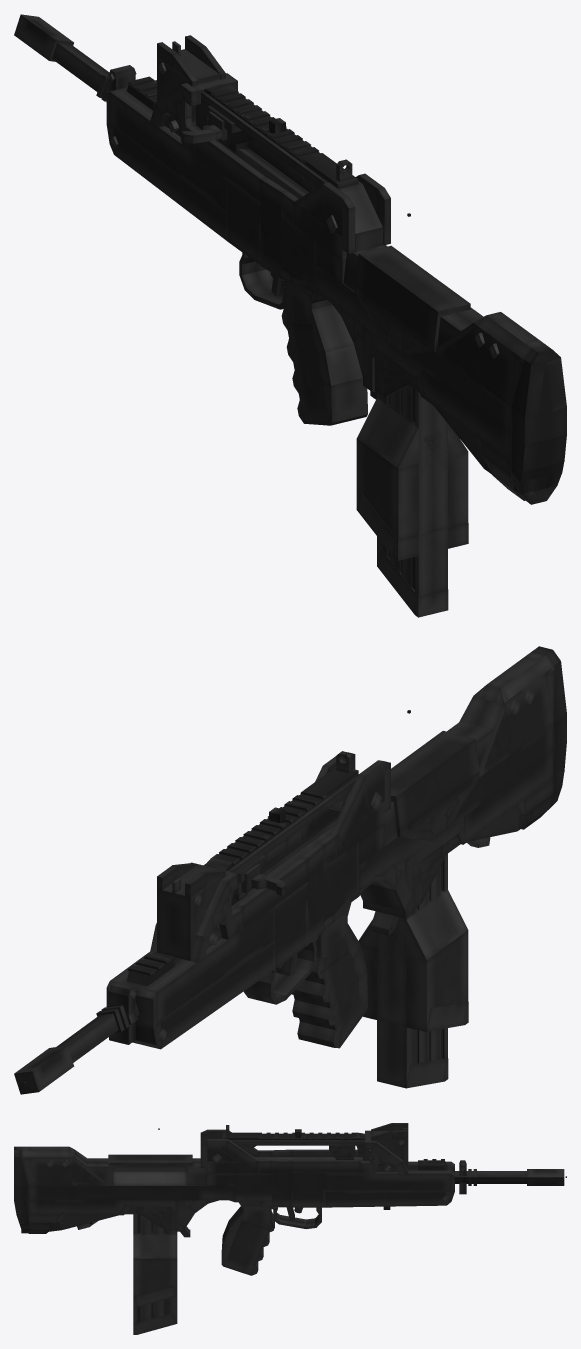
File: a4_famasvalorise.geo.fbx
3 renders of one model, top to bottom at view 1: azimuth 30°, elevation 25°; view 2: azimuth 150°, elevation 25°; view 3: azimuth 270°, elevation 25°, orthographic. The views are drawn at different scales.
Visible parts, largest first — view 1: gun, magazine6, pgrip, magazine4, magazine1, rails, charger, muzzle, barrel, bone5; view 2: gun, magazine6, pgrip, magazine4, magazine1, rails, muzzle, barrel, charger, rails2; view 3: gun, magazine6, pgrip, magazine4, rails, bolt, barrel, muzzle, magazine1, charger, rails2.
Part boxes in pixels (box(x1,y1,x2,y2)): gun: box(96, 35, 566, 500); magazine6: box(356, 398, 468, 560); pgrip: box(281, 281, 367, 425); magazine4: box(377, 386, 448, 617); magazine1: box(377, 385, 447, 553); rails: box(204, 84, 358, 188); charger: box(181, 105, 254, 152); muzzle: box(14, 14, 73, 61); barrel: box(52, 42, 109, 95); bone5: box(511, 457, 563, 494); gun: box(96, 646, 566, 1049); magazine6: box(358, 890, 468, 1032); pgrip: box(292, 903, 367, 1048); magazine4: box(377, 855, 448, 1088); magazine1: box(377, 854, 447, 1026); rails: box(204, 767, 358, 871); muzzle: box(14, 1045, 74, 1094); barrel: box(56, 1003, 139, 1062); charger: box(231, 855, 285, 905); rails2: box(127, 952, 175, 986); gun: box(14, 1123, 476, 1237); magazine6: box(133, 1233, 177, 1307); pgrip: box(221, 1202, 274, 1275); magazine4: box(133, 1216, 177, 1334); rails: box(223, 1132, 364, 1140); bolt: box(113, 1171, 186, 1185); barrel: box(455, 1171, 526, 1183); muzzle: box(527, 1169, 564, 1185); magazine1: box(133, 1214, 177, 1234); charger: box(329, 1144, 355, 1159); rails2: box(418, 1159, 447, 1170).
Bounding box in the file's own units: 49.63 × 213 × 519.
1 material, 1 textured.
